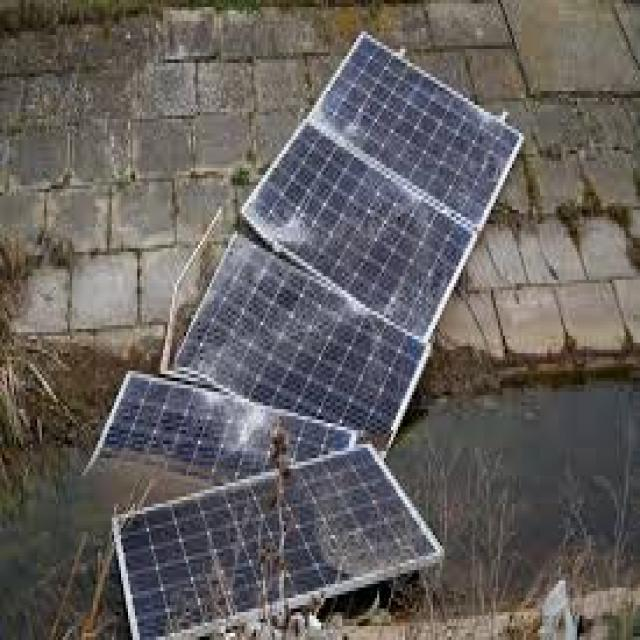faulty: (115, 445, 447, 634), (172, 237, 426, 455), (252, 124, 479, 345), (311, 33, 528, 238), (81, 370, 349, 534)
